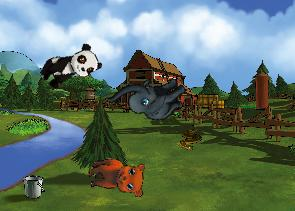bear: (86, 156, 147, 201)
elephant: (104, 54, 193, 141)
panda: (36, 40, 103, 94)
